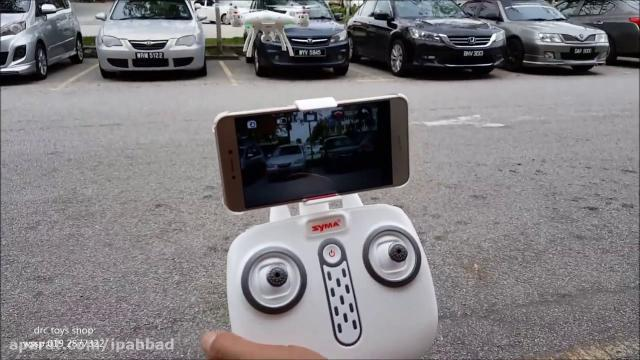drone: (217, 0, 331, 58)
